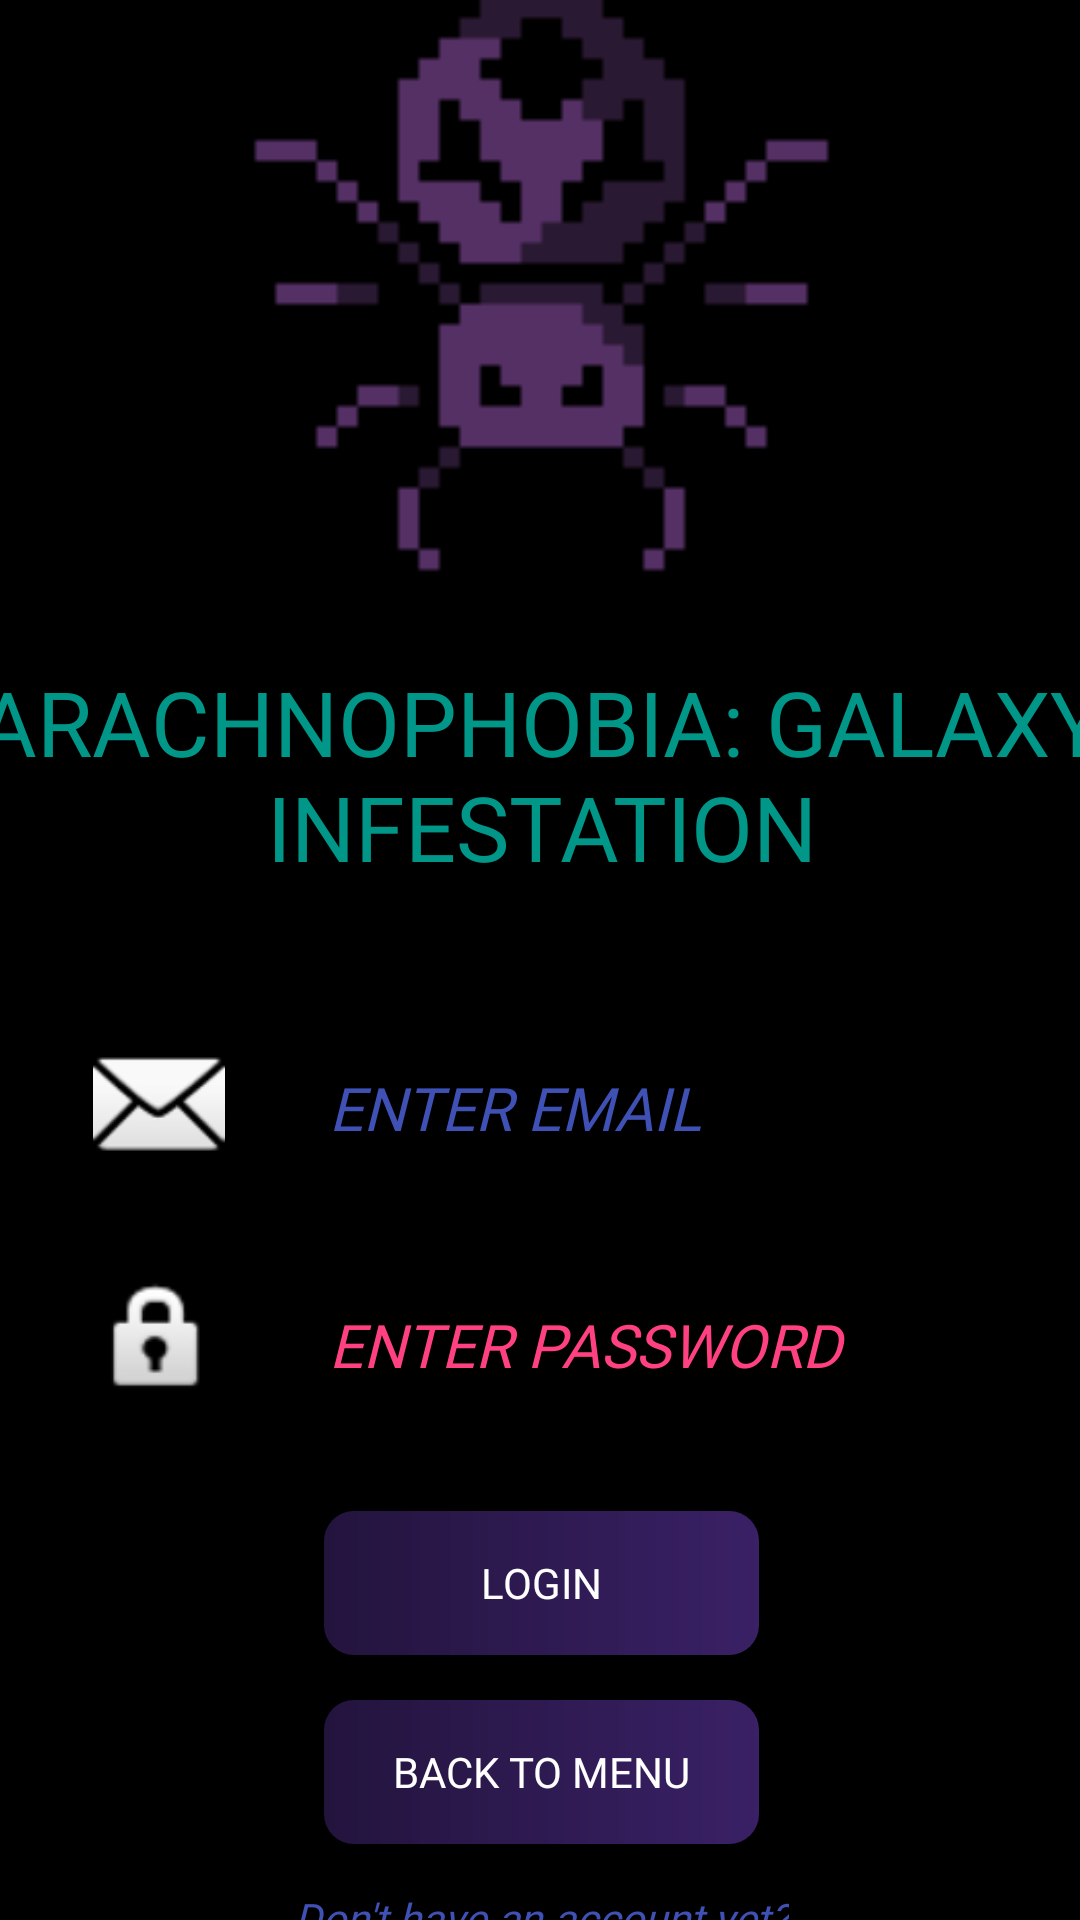

Icons on this 1080×1920 Android screen, each with its box as (x1, y1, x2, y2):
lock idle: (113, 1285, 199, 1386)
